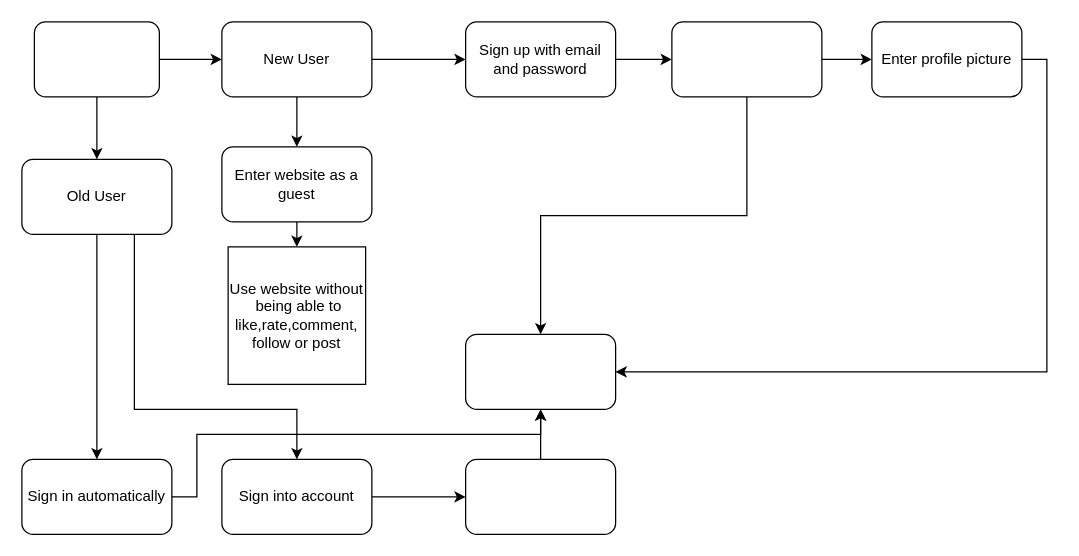
The diagram is 1079 pixels wide and 556 high, and some of its shapes have lost their labels. The shapes that lost their labels are listed below. From the top down, each one's centre as x and y in pixels, then its label:
[96,59]: Open website
[746,59]: Enter username
[540,371]: Use Website
[540,496]: Enter email and password
